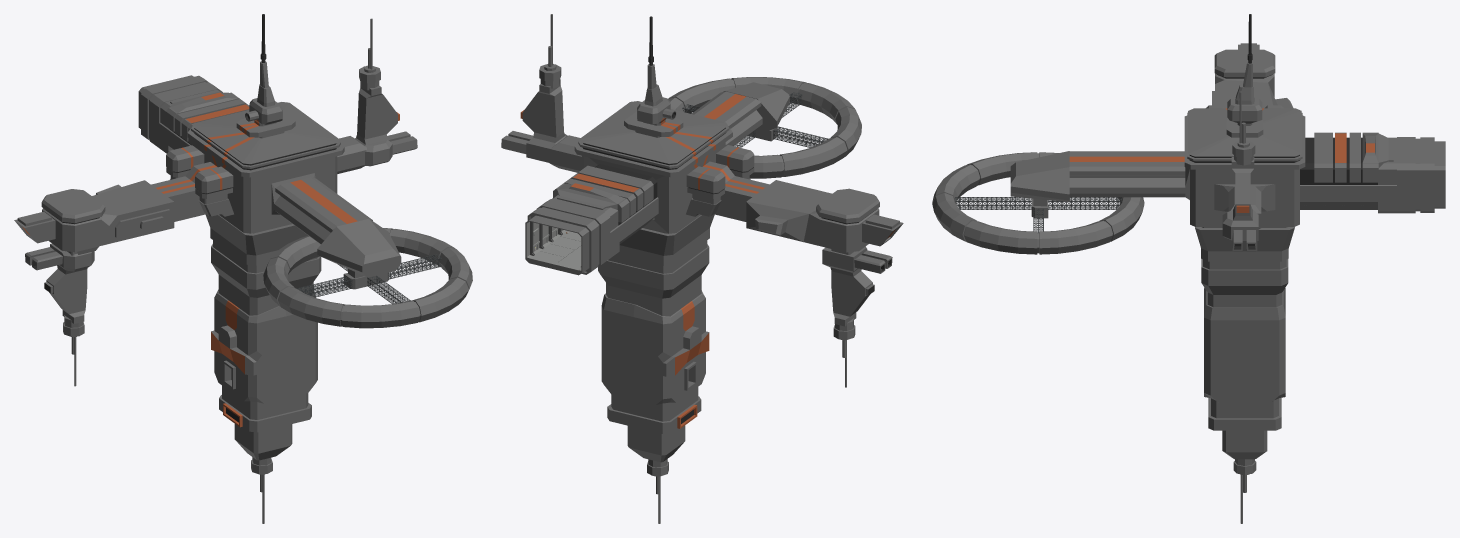
The model's file is station1.glb.
3 views of the same model, side by side, from view 1: azimuth 30°, elevation 25°; view 2: azimuth 150°, elevation 25°; view 3: azimuth 270°, elevation 25° (orthographic).
Visible parts, largest first — view 1: station; view 2: station, details; view 3: station.
Part boxes in pixels (x1=…): station: x1=14, y1=14, x2=472, y2=523; station: x1=501, y1=14, x2=903, y2=523; details: x1=530, y1=221, x2=581, y2=266; station: x1=932, y1=14, x2=1445, y2=523.
Size of the model in its own units: 351 by 434 by 395.
Materials: 18 (4 with a texture image).
